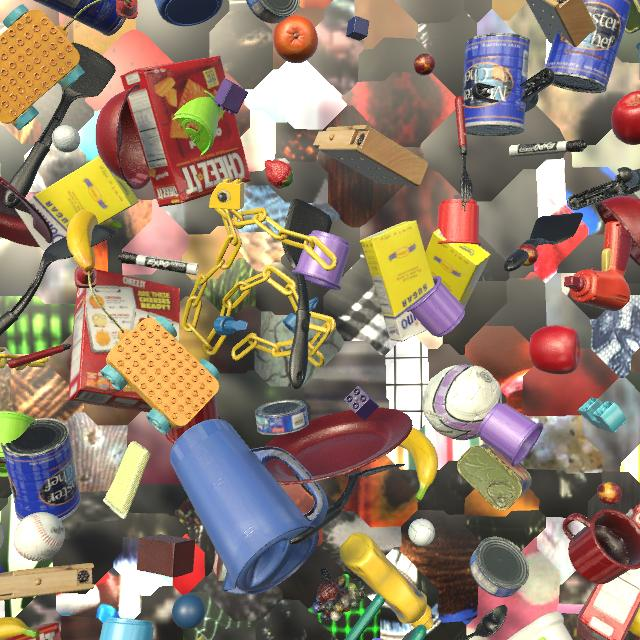ycb_002_master_chef_can: (1, 418, 81, 521), (545, 0, 630, 93), (463, 33, 530, 136), (34, 0, 126, 36)
ycb_003_cracker_box: (120, 56, 251, 207), (68, 269, 180, 412), (577, 504, 640, 640), (2, 622, 61, 640), (636, 636, 640, 640)
ycb_004_sugar_box: (14, 156, 139, 251), (360, 220, 435, 342), (426, 229, 491, 308), (197, 634, 208, 640)
ycb_006_mustard_bottle: (340, 533, 434, 630)
ycb_007_tuna_fish_can: (470, 537, 529, 597), (255, 399, 309, 435), (246, 0, 300, 23)
ycb_008_pudding_box: (213, 551, 227, 582)
ycb_009_gelatin_box: (625, 509, 633, 517)
ycb_010_potted_meat_can: (457, 443, 532, 510), (624, 0, 640, 34)
ycb_011_banana: (67, 210, 123, 272), (399, 427, 438, 501), (0, 617, 40, 640)
ycb_012_strawberry: (265, 160, 294, 189)
ycb_013_apple: (529, 325, 581, 374), (611, 91, 640, 145)
ycb_014_lemon: (629, 608, 640, 637)
ycb_017_orange: (273, 15, 318, 63)
